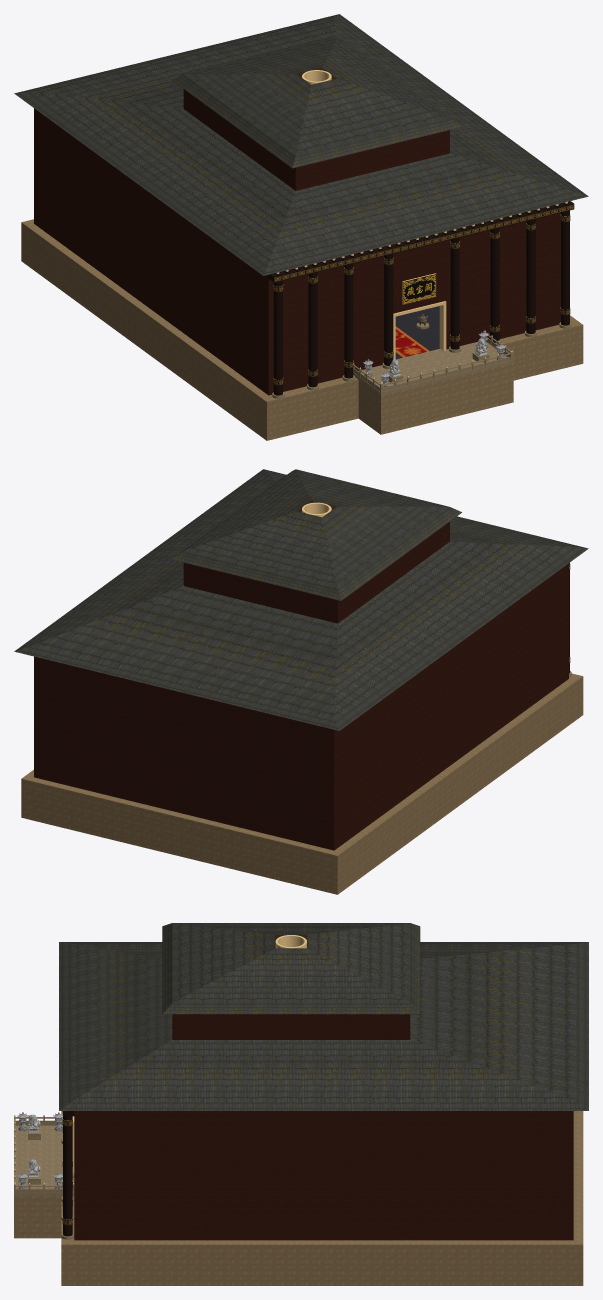
Rendered from pavilion-t16.glb.
The picture shows the model from 3 angles, top to bottom: view 1: azimuth 30°, elevation 25°; view 2: azimuth 150°, elevation 25°; view 3: azimuth 270°, elevation 25°; orthographic projection. The views are drawn at different scales.
Visible parts, largest first — view 1: T16_RoofTile, T16_WallWood, T16_Stone, T16_Lacquer, T16_Marble, T16_GoldBand, T16_Gold, T16_Floor, T16_Plaque, T16_Carpet; view 2: T16_RoofTile, T16_WallWood, T16_Stone; view 3: T16_RoofTile, T16_WallWood, T16_Stone, T16_Marble, T16_Lacquer, T16_Gold.
Part boxes in pixels (left/top/right/bottom): T16_RoofTile: left=14, top=14, right=588, bottom=275; T16_WallWood: left=34, top=89, right=560, bottom=395; T16_Stone: left=21, top=219, right=583, bottom=440; T16_Lacquer: left=268, top=201, right=573, bottom=395; T16_Marble: left=272, top=306, right=571, bottom=398; T16_GoldBand: left=273, top=204, right=574, bottom=385; T16_Gold: left=273, top=70, right=570, bottom=384; T16_Floor: left=395, top=306, right=439, bottom=359; T16_Plaque: left=403, top=274, right=436, bottom=304; T16_Carpet: left=395, top=326, right=429, bottom=357; T16_RoofTile: left=14, top=469, right=588, bottom=730; T16_WallWood: left=34, top=522, right=568, bottom=850; T16_Stone: left=21, top=673, right=583, bottom=894; T16_RoofTile: left=59, top=923, right=588, bottom=1110; T16_WallWood: left=74, top=1014, right=573, bottom=1240; T16_Stone: left=14, top=1111, right=583, bottom=1285; T16_Marble: left=14, top=1116, right=74, bottom=1239; T16_Lacquer: left=63, top=1111, right=74, bottom=1236; T16_Gold: left=14, top=935, right=306, bottom=1219.
Size of the model in its own units: 49 by 35.5 by 70.5.
Materials: 34 (30 with a texture image).
